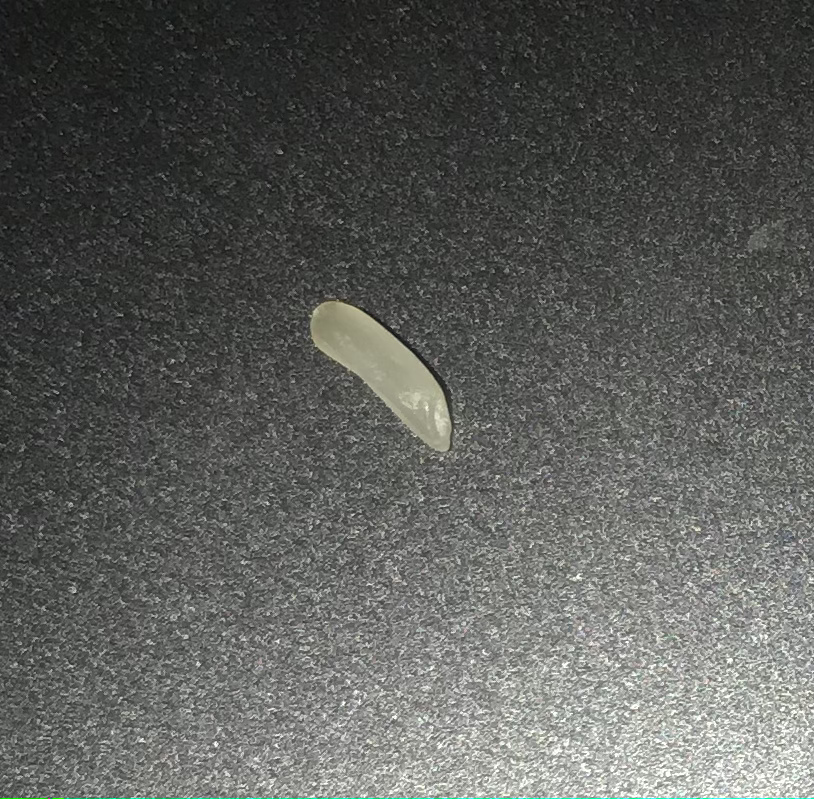Gao Long Lai: (300, 289, 468, 472)
